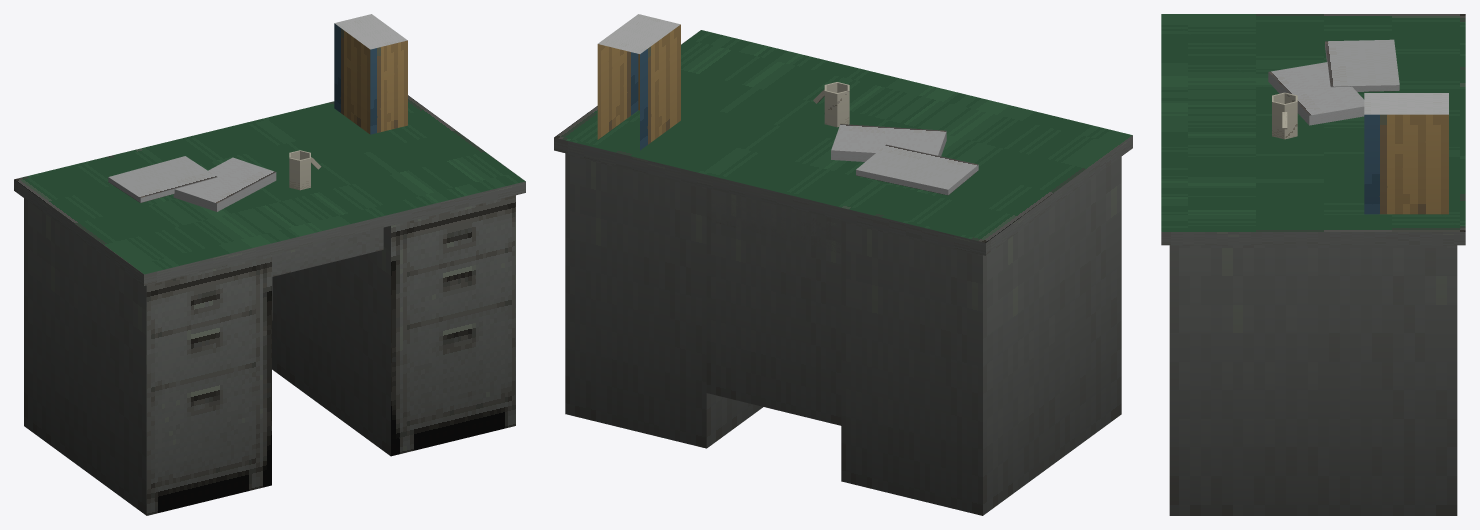
File: prop_staffdesk-1.glb
The picture shows the model from 3 angles, left to right: view 1: azimuth 30°, elevation 25°; view 2: azimuth 150°, elevation 25°; view 3: azimuth 270°, elevation 25°; orthographic projection. The views are drawn at different scales.
Visible parts, largest first — view 1: prop_staffdesk-1; view 2: prop_staffdesk-1; view 3: prop_staffdesk-1.
Part boxes in pixels (x1,y1,x2,y2): prop_staffdesk-1: (14, 14, 525, 515); prop_staffdesk-1: (554, 14, 1132, 515); prop_staffdesk-1: (1161, 14, 1465, 515).
Size of the model in its own units: 1.18 by 0.9797 by 0.6984.
Materials: 5 (5 with a texture image).
